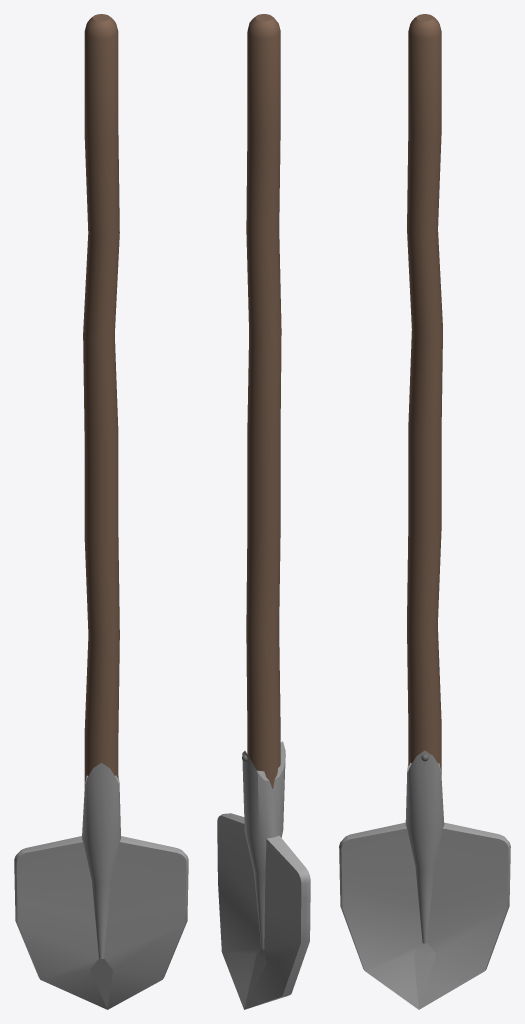
File: Pelle.glb
The picture shows the model from 3 angles, left to right: view 1: azimuth 90°, elevation 25°; view 2: azimuth 210°, elevation 25°; view 3: azimuth 270°, elevation 25°; orthographic projection.
Visible parts, largest first — view 1: Cylinder.001; view 2: Cylinder.001; view 3: Cylinder.001.
Boxes of the visible parts, <box> form: Cylinder.001: <box>14,14,188,1009</box>; Cylinder.001: <box>217,14,310,1009</box>; Cylinder.001: <box>339,14,510,1009</box>.
Bounding box in the file's own units: 0.1687 × 3.94 × 0.6233.
